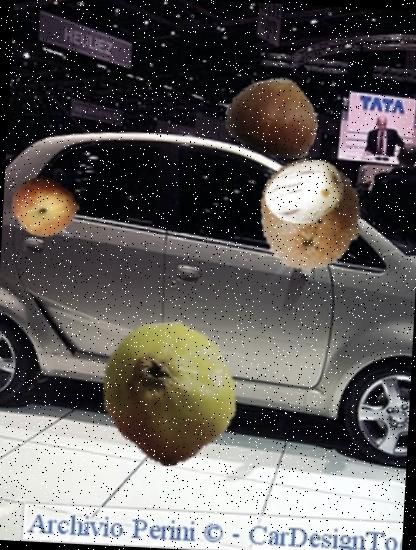Apple: (94, 318, 245, 469)
Kiwi: (250, 156, 369, 275)
Nut: (225, 66, 323, 164)
Peach: (11, 172, 80, 241)
Pepino: (264, 151, 348, 235)
